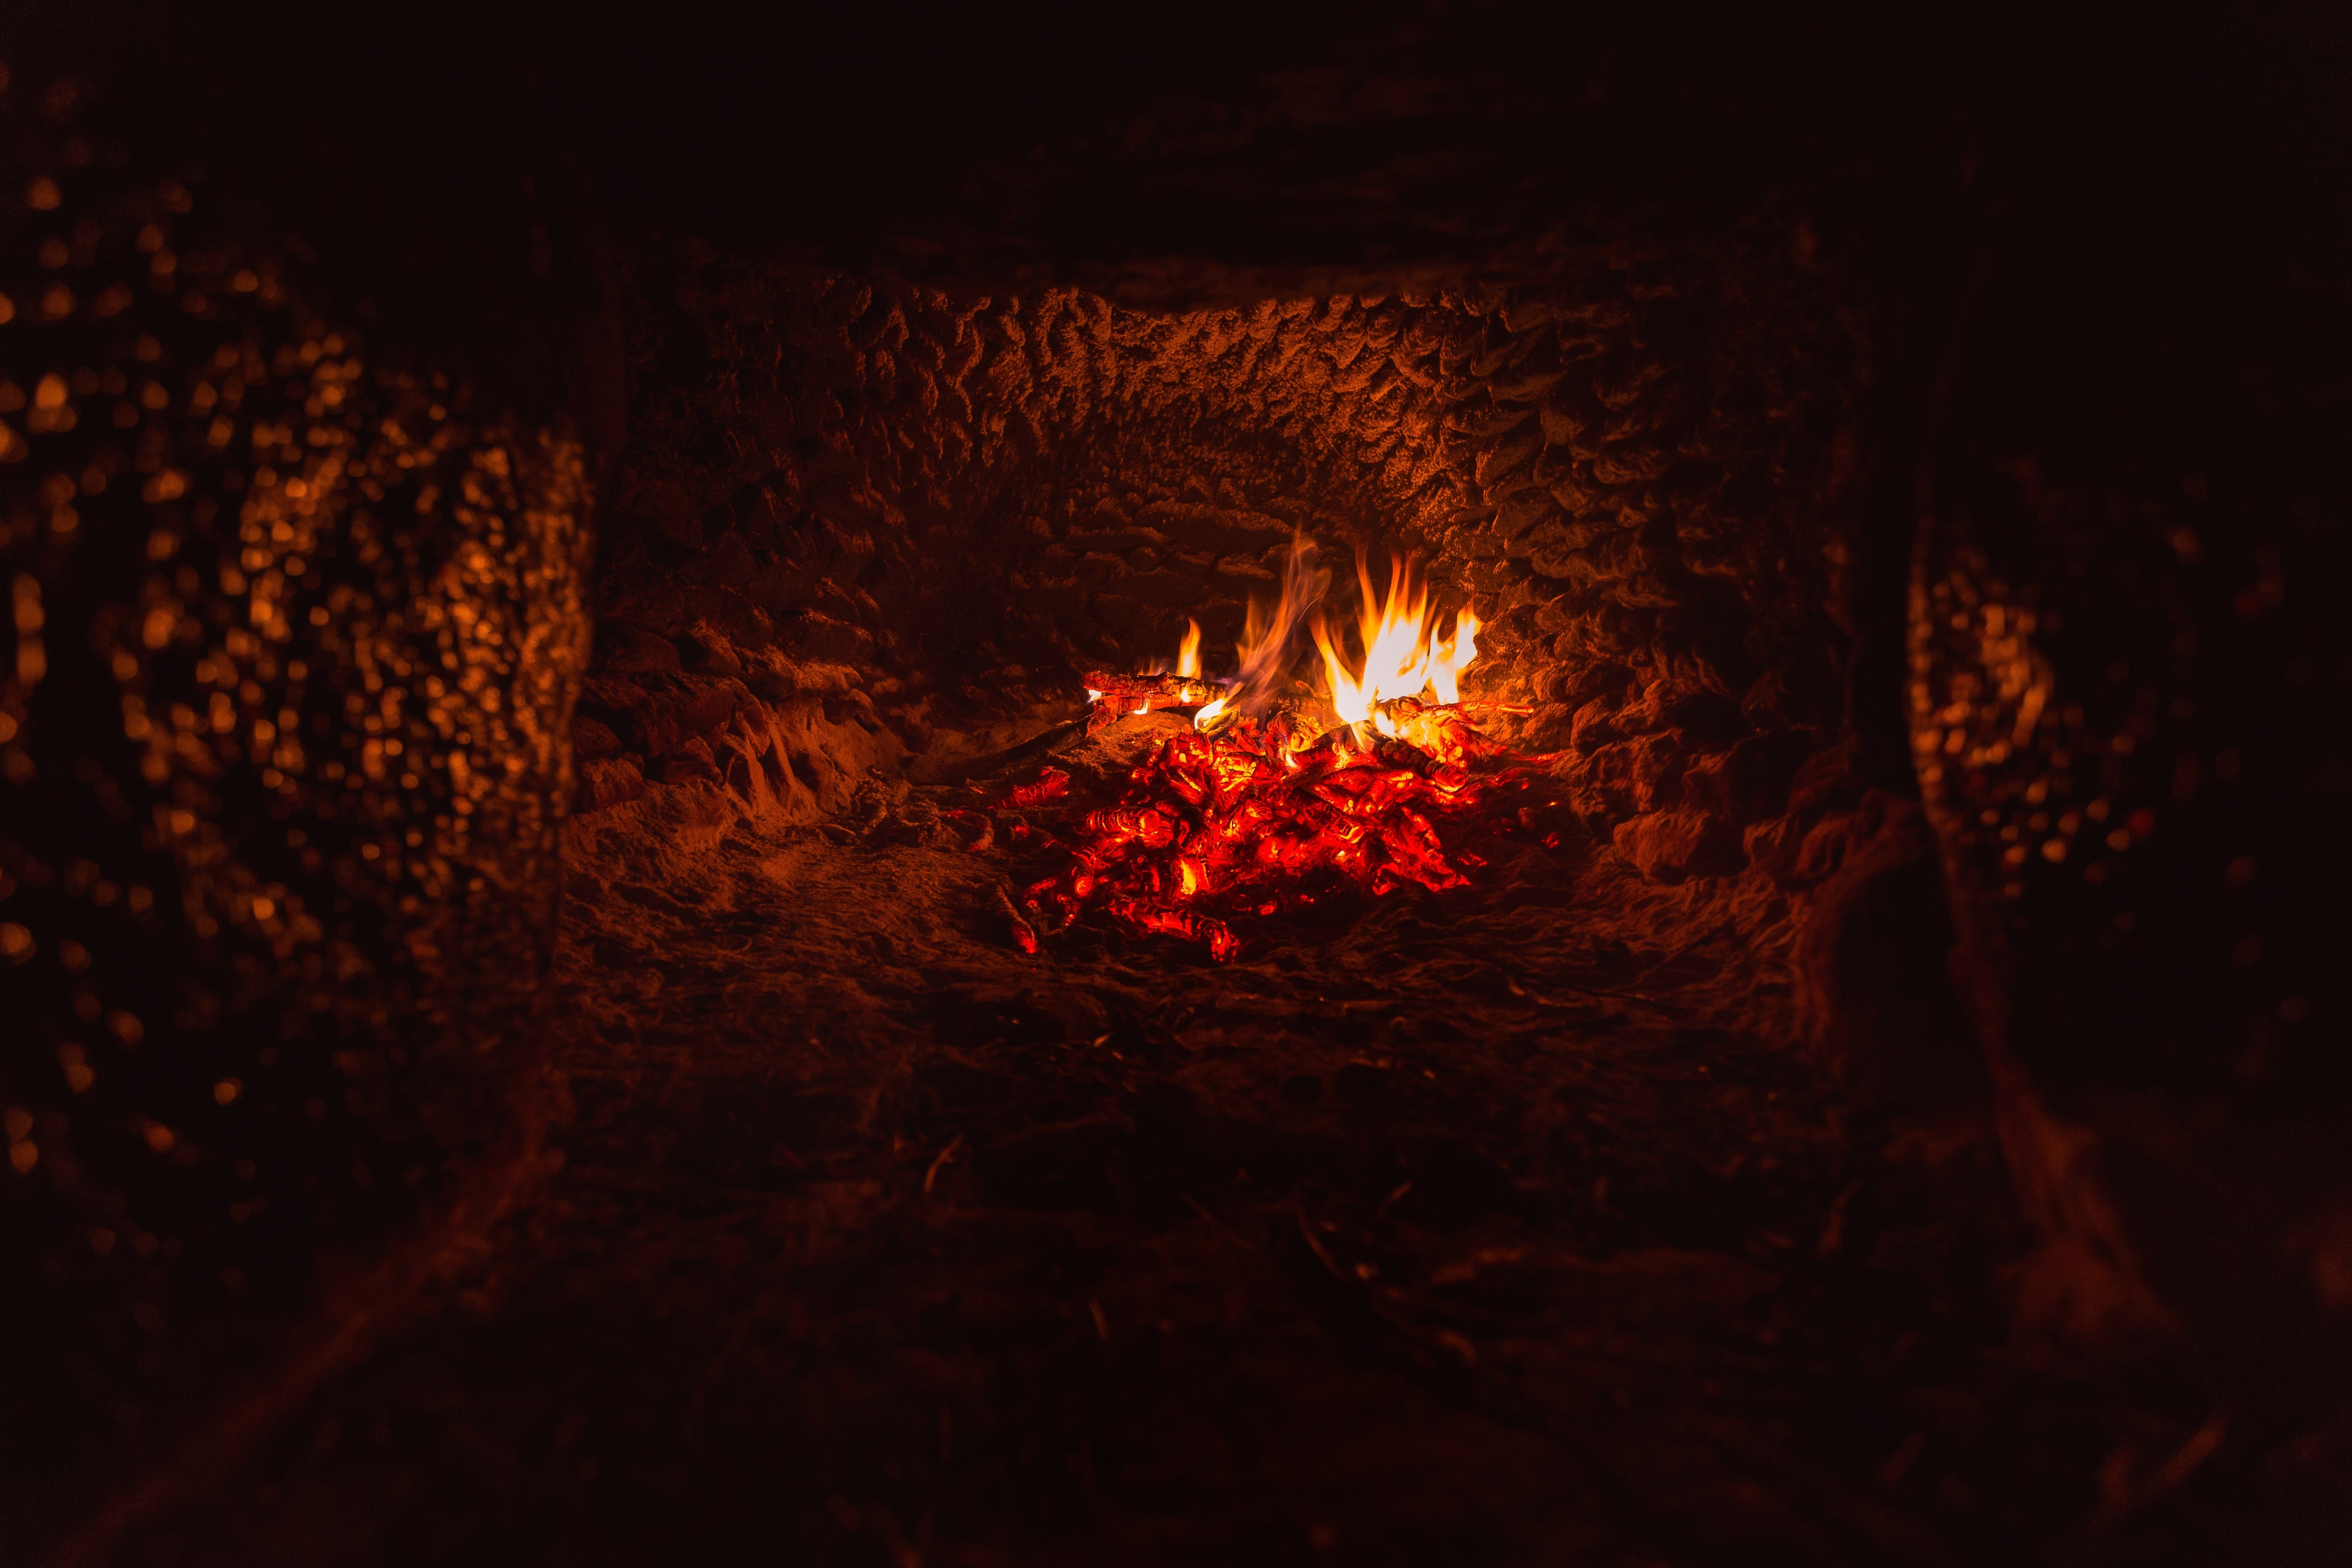fire: (1038, 534, 1500, 926)
